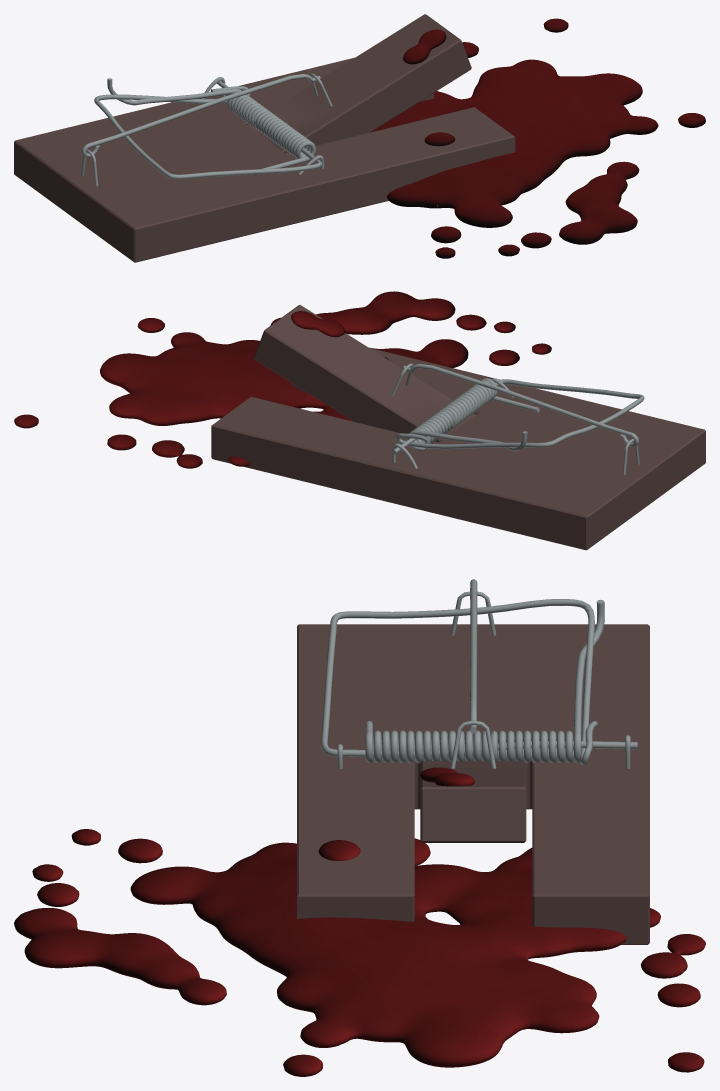
Rendered from trappola_usata.fbx.
The picture shows the model from 3 angles, top to bottom: view 1: azimuth 30°, elevation 25°; view 2: azimuth 150°, elevation 25°; view 3: azimuth 270°, elevation 25°; orthographic projection. The views are drawn at different scales.
Parts seen in each view (by area): view 1: Trappola usata; view 2: Trappola usata; view 3: Trappola usata.
Part boxes in pixels (bbox=[...]): Trappola usata: bbox=[14, 14, 705, 262]; Trappola usata: bbox=[14, 291, 705, 550]; Trappola usata: bbox=[14, 579, 705, 1076].
Bounding box in the file's own units: 422 × 80.72 × 303.
3 materials, 1 textured.
